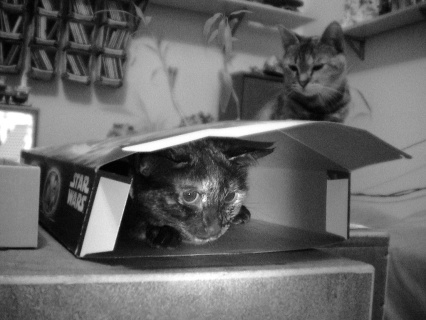Cat: (129, 147, 276, 250)
